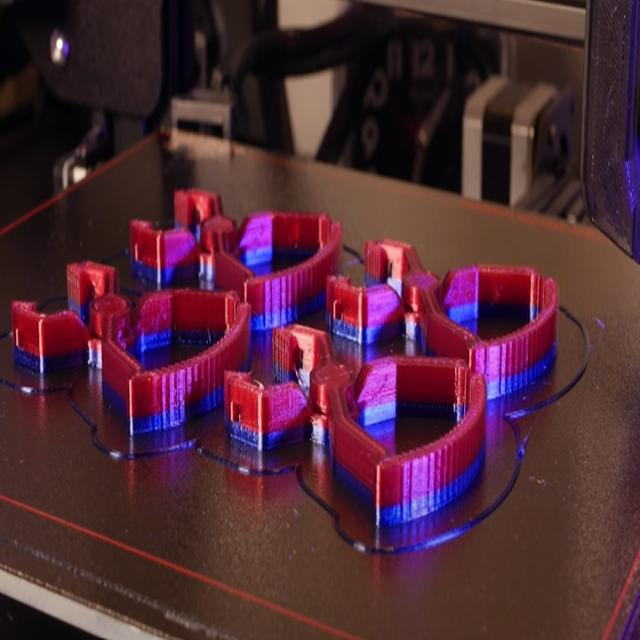Without deffect: (9, 158, 588, 566)
